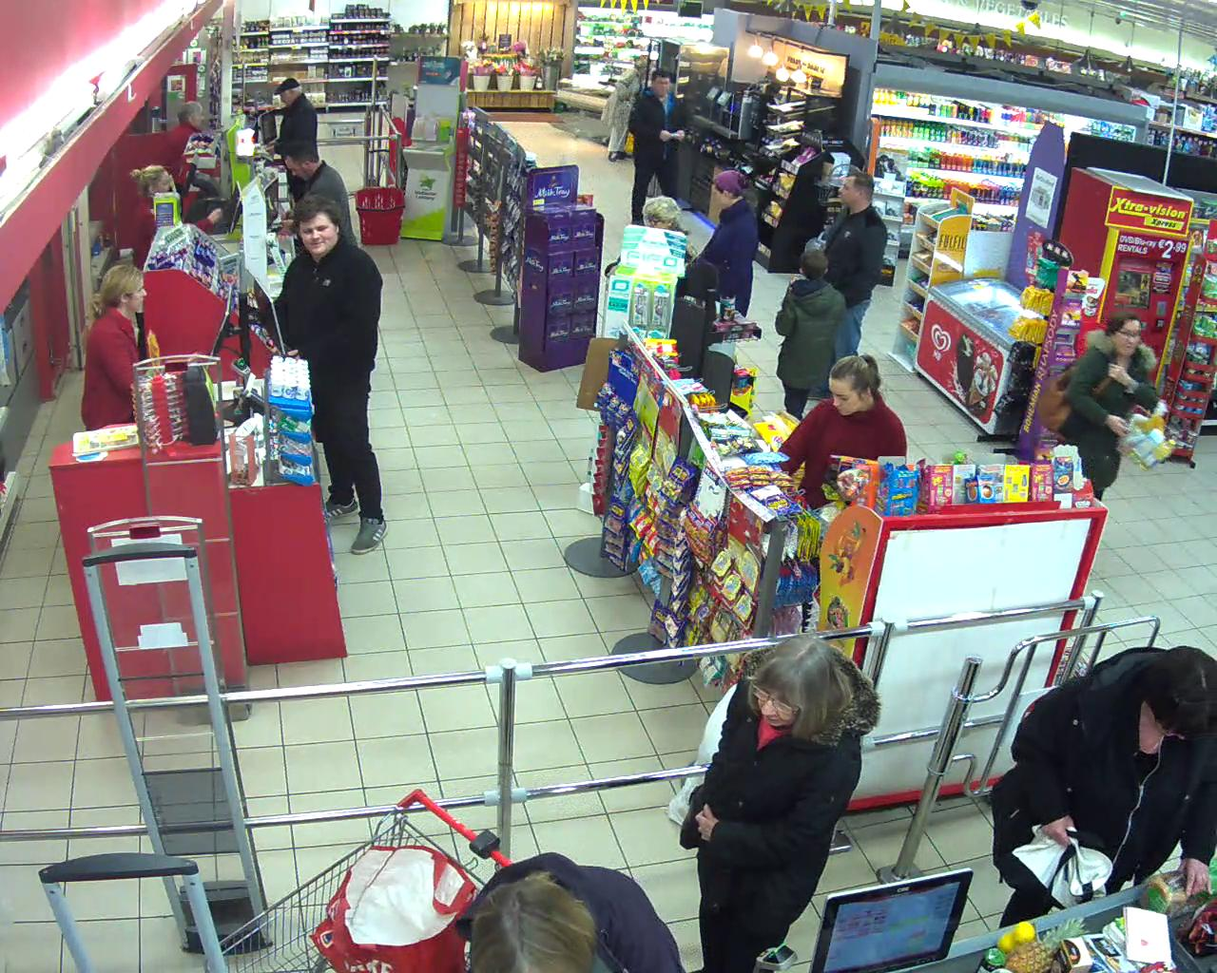backpack-or-handbag: (1038, 367, 1078, 430)
filled-basket: (1116, 393, 1198, 470)
occupied-checkout-counter: (81, 246, 286, 440), (111, 164, 281, 267), (153, 97, 278, 167)
person-with-backpack-handbag: (1064, 312, 1158, 498)
person-with-basket-trolly-and-backpack-handbag: (1037, 312, 1198, 497)
